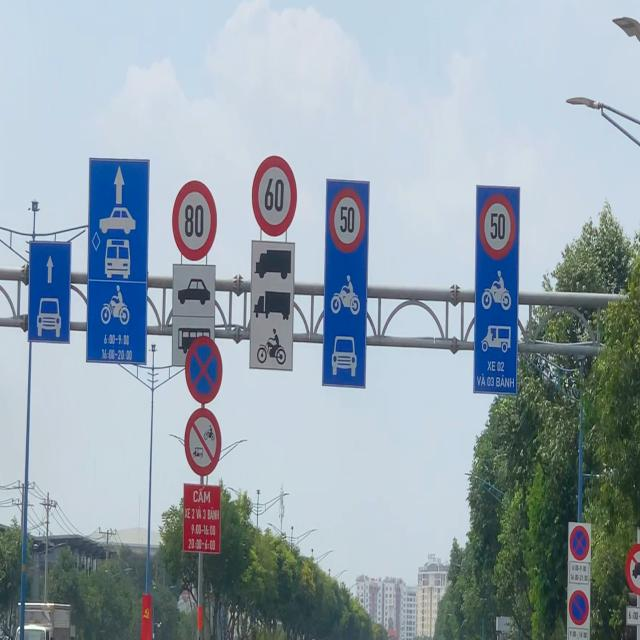Cam con lai: (184, 406, 222, 476), (625, 543, 640, 594)
Cam do: (569, 590, 589, 626)
Cam dung va do: (185, 336, 223, 404), (570, 525, 590, 561)
Toc do toi da: (252, 156, 298, 237), (172, 180, 217, 261), (479, 193, 516, 260), (330, 188, 366, 253)
